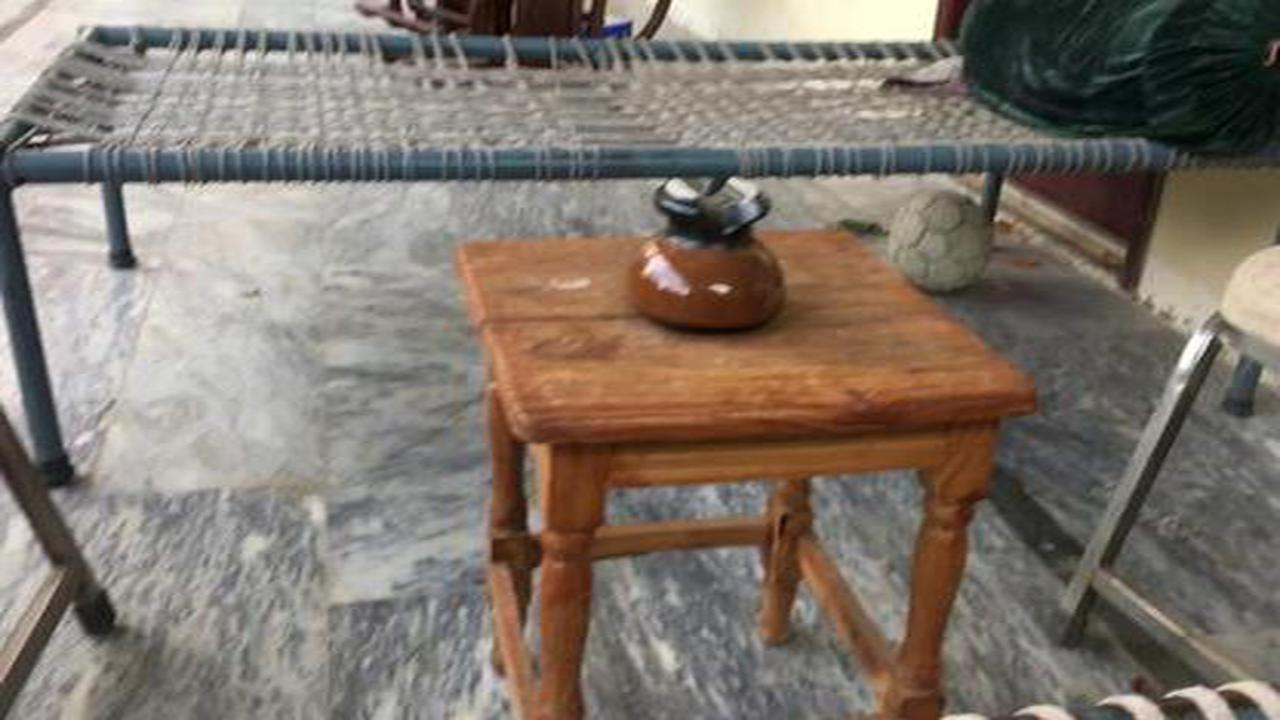insulator_pin: (607, 161, 810, 354)
